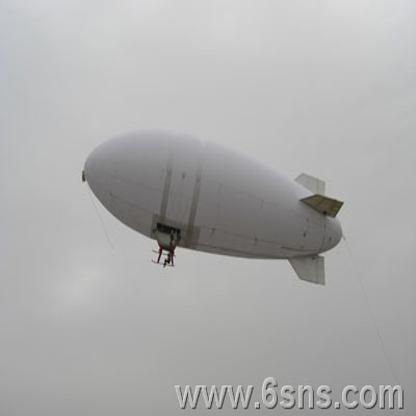Airship: (78, 126, 349, 293)
